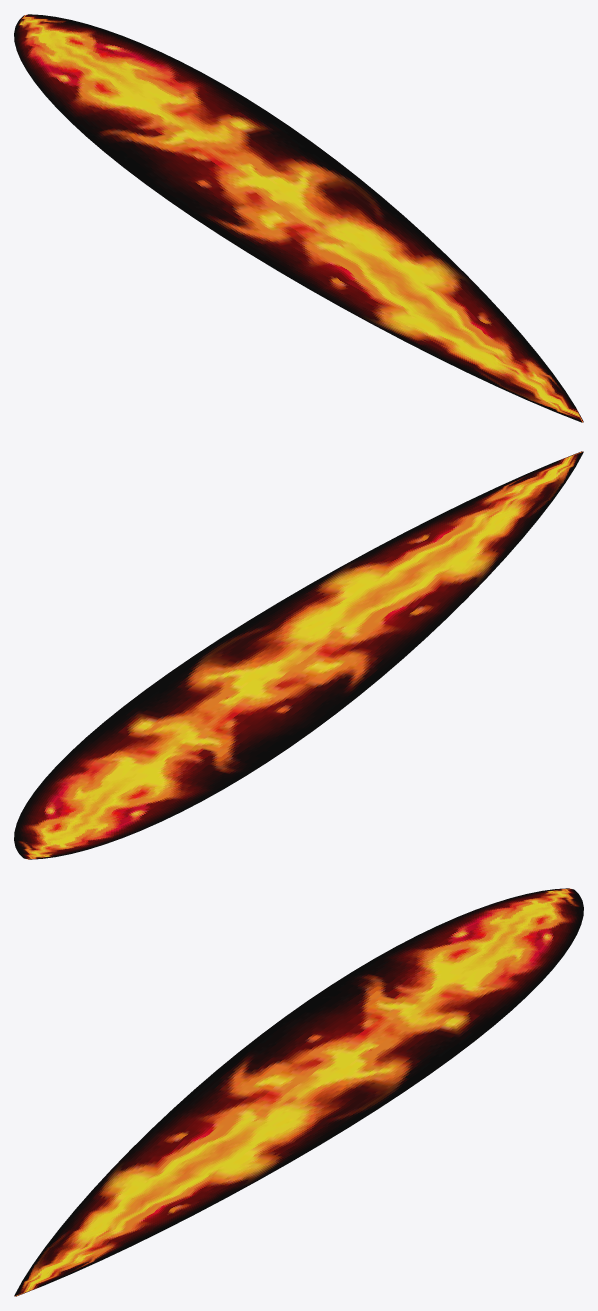
Rendered from 0429_shuibo.glb.
3 renders of one model, top to bottom at view 1: azimuth 30°, elevation 25°; view 2: azimuth 150°, elevation 25°; view 3: azimuth 330°, elevation 25°, orthographic.
Size of the model in its own units: 0.3834 by 1.35e-16 by 2.2.
1 material, 1 textured.
